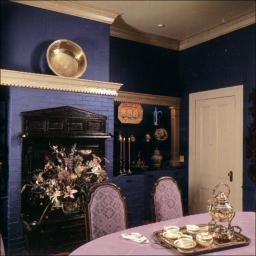Puerta: (191, 97, 238, 205)
